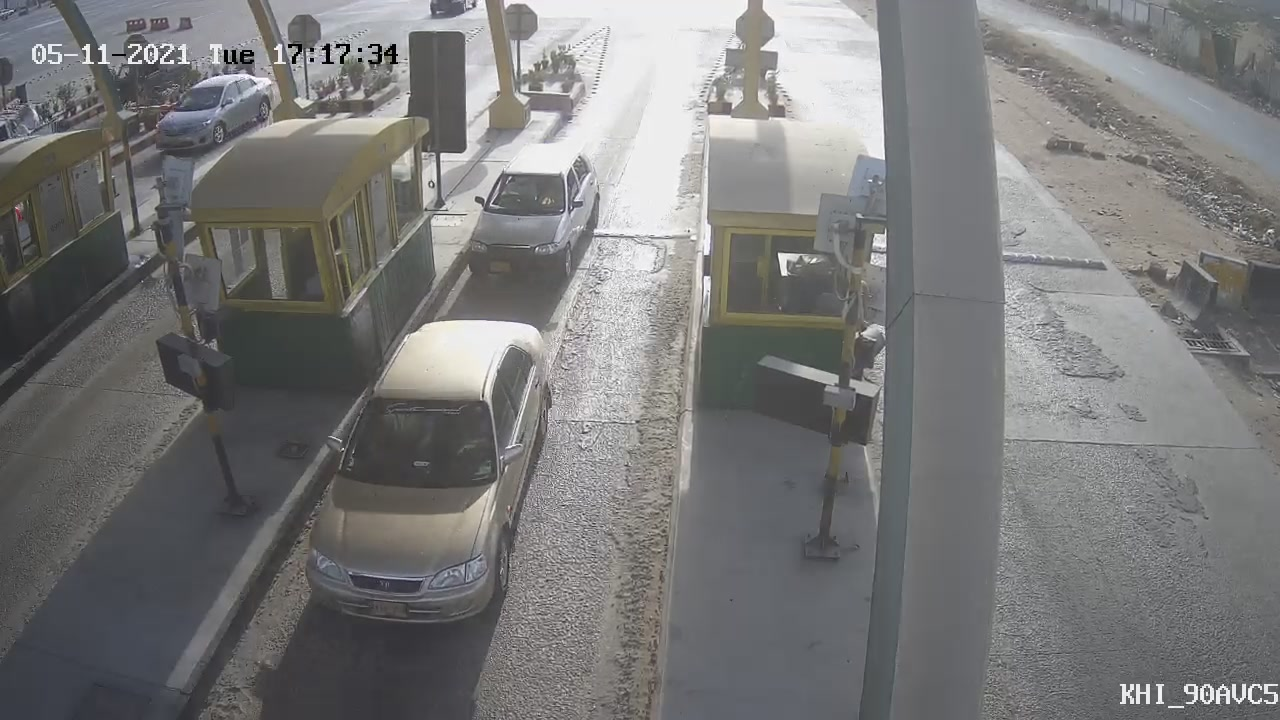F1: (448, 131, 612, 301)
